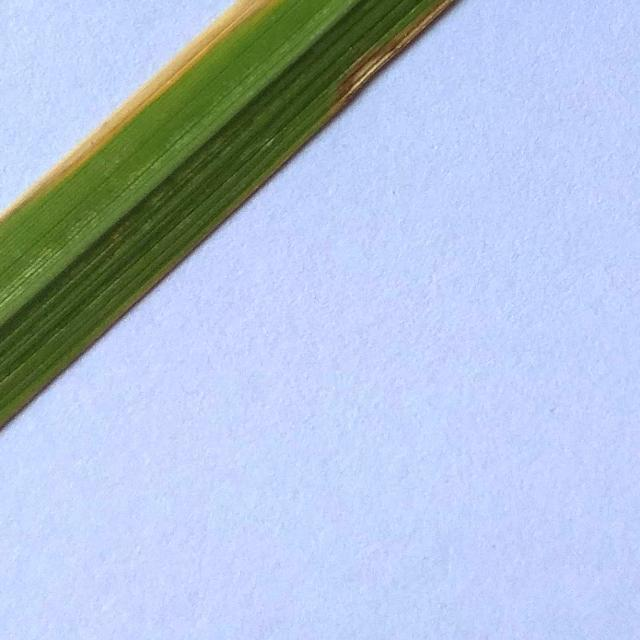Blast: (350, 54, 374, 87), (378, 42, 394, 64)
